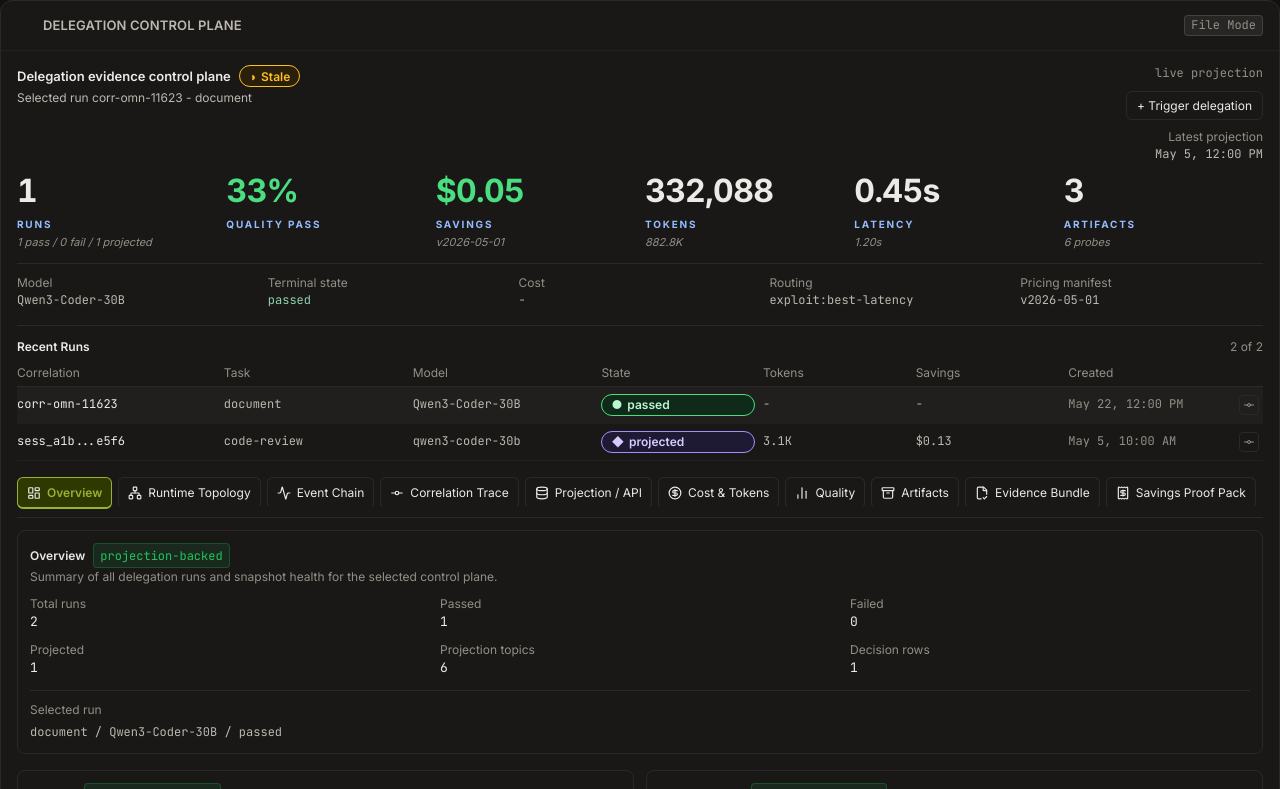
Test: DelegationControlPlane › shows quality pass rate on quality tab
The width and height of the screenshot is (1280, 789).
Check: the text "Delegation evidence control plane" is shown, box left=17, top=67, right=231, bottom=86
Click the tab "Quality" at (825, 493), box left=785, top=477, right=865, bottom=509
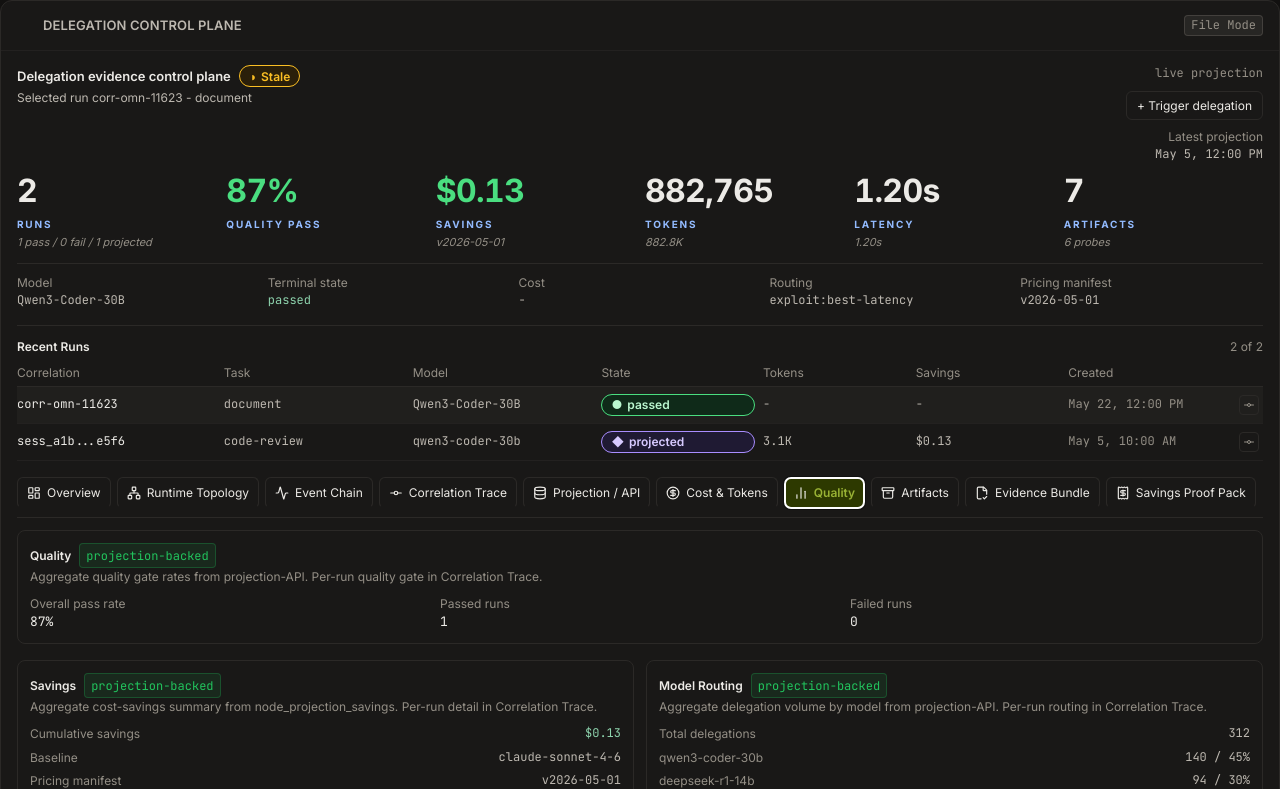
Check: the 1st text "Quality" is shown, box left=814, top=484, right=855, bottom=501
Check: the text "Overall pass rate" is shown, box left=30, top=596, right=125, bottom=611
